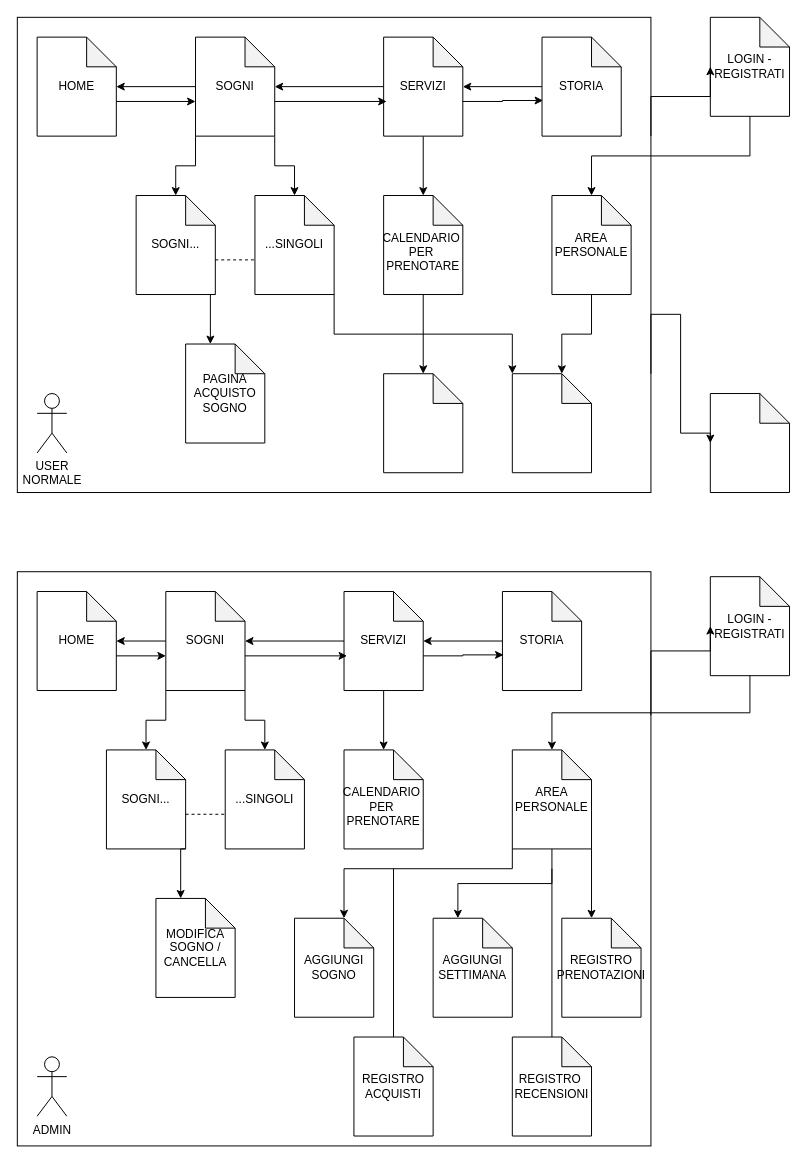
Image size: 807x1163. Some labels were removed from this diagram. Each missing label, with the centre of its shape:
"CONTATTA" belongs at [749,443].
"PAGINA SINGOLA DATA" belongs at [423,423].
"RECENSIONE SOGNO" belongs at [551,423].
